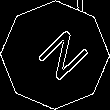N_SW: (23, 23, 87, 87)
